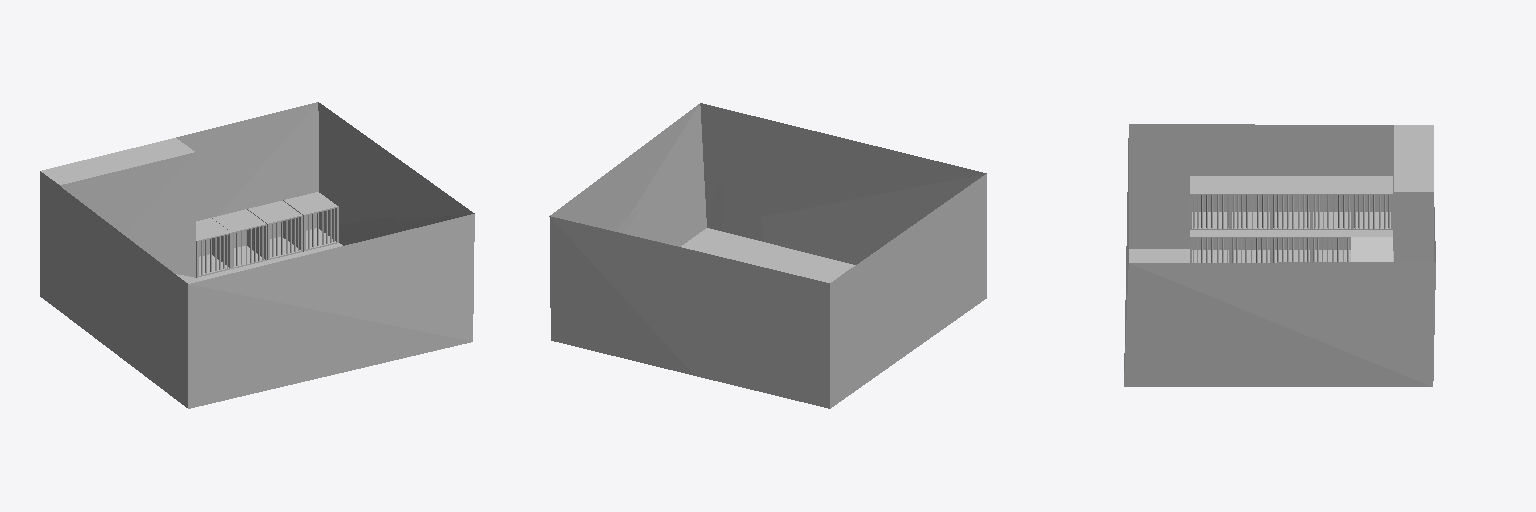
File: Prison.obj
3 views of the same model, side by side, from view 1: azimuth 30°, elevation 25°; view 2: azimuth 150°, elevation 25°; view 3: azimuth 270°, elevation 25° (orthographic).
Visible parts, largest first — view 1: Plane.001_Plane.002, Cube.011_Cube.005, Cube.010_Cube.004, Cube.012_Cube.006, Cube.009_Cube.003; view 2: Plane.001_Plane.002; view 3: Plane.001_Plane.002, Plane, Cube.003_Cube.001, Cube.002_Cube.001, Cube_Cube.001, Cube.004_Cube.001, Cube.001, Cube.005_Cube.002, Cube.006_Cube.002, Cube.008_Cube.002, Cube.007_Cube.002, Cylinder.004 (+2 smaller).
Part boxes in pixels (left/top/right/bottom): Plane.001_Plane.002: left=40, top=102, right=474, bottom=408; Cube.011_Cube.005: left=247, top=201, right=302, bottom=259; Cube.010_Cube.004: left=212, top=209, right=266, bottom=268; Cube.012_Cube.006: left=283, top=192, right=338, bottom=251; Cube.009_Cube.003: left=196, top=218, right=231, bottom=277; Plane.001_Plane.002: left=549, top=103, right=986, bottom=408; Plane.001_Plane.002: left=1124, top=124, right=1435, bottom=386; Plane: left=1190, top=230, right=1392, bottom=261; Cube.003_Cube.001: left=1312, top=176, right=1351, bottom=229; Cube.002_Cube.001: left=1271, top=176, right=1311, bottom=229; Cube_Cube.001: left=1190, top=176, right=1230, bottom=229; Cube.004_Cube.001: left=1352, top=176, right=1392, bottom=229; Cube.001: left=1231, top=176, right=1270, bottom=229; Cube.005_Cube.002: left=1190, top=238, right=1230, bottom=262; Cube.006_Cube.002: left=1231, top=238, right=1270, bottom=262; Cube.008_Cube.002: left=1312, top=238, right=1350, bottom=261; Cube.007_Cube.002: left=1271, top=238, right=1311, bottom=262; Cylinder.004: left=1354, top=195, right=1389, bottom=228.
Bounding box in the file's own units: 3.29 × 1.38 × 3.1.